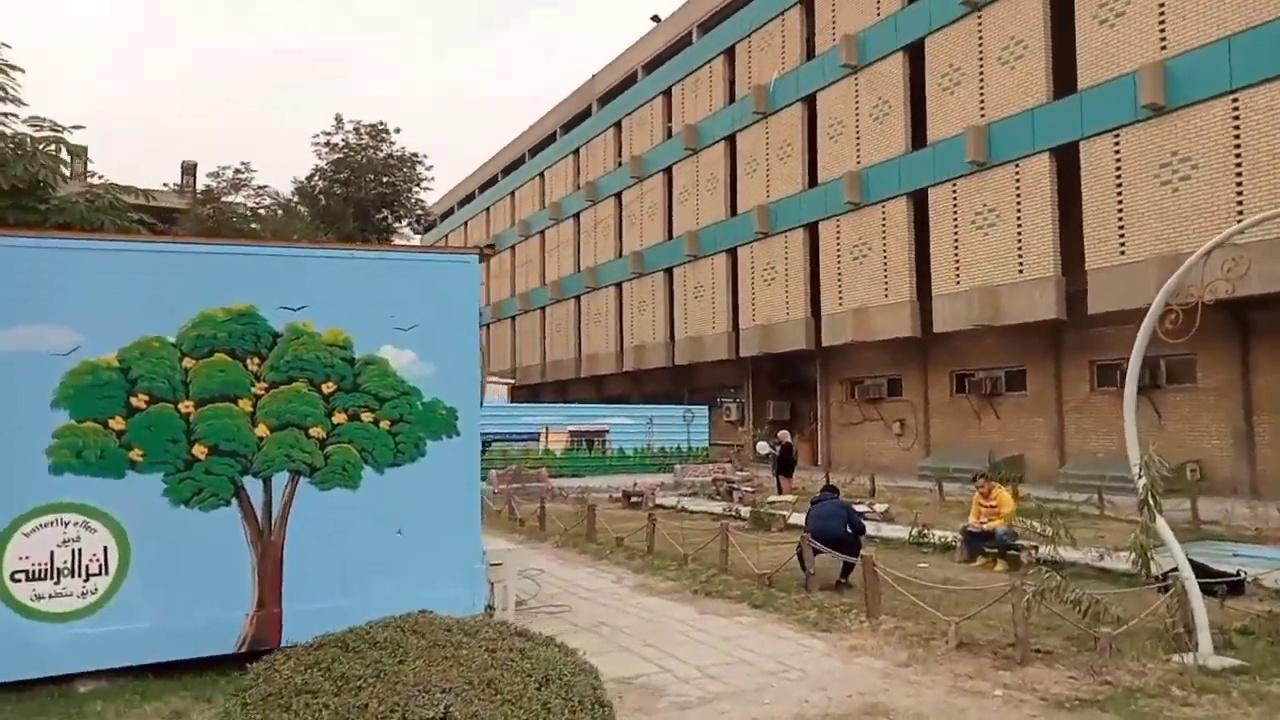person: (796, 483, 866, 590), (956, 470, 1018, 572), (771, 428, 796, 495)
tree: (44, 301, 460, 653), (0, 39, 438, 243), (0, 40, 162, 232), (290, 111, 436, 244), (190, 159, 277, 238), (253, 183, 318, 241)
